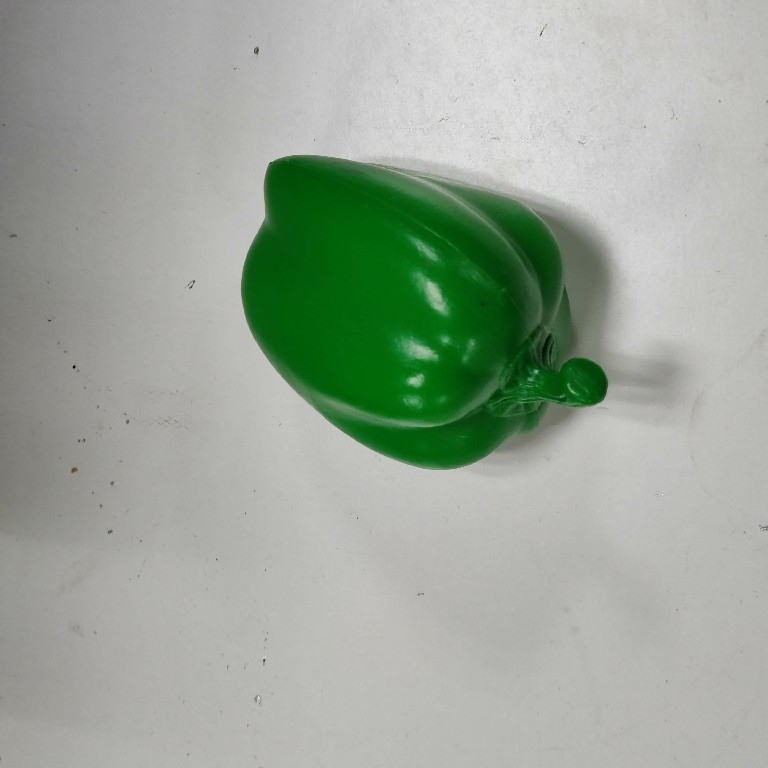fruit_pepper: (235, 149, 614, 476)
